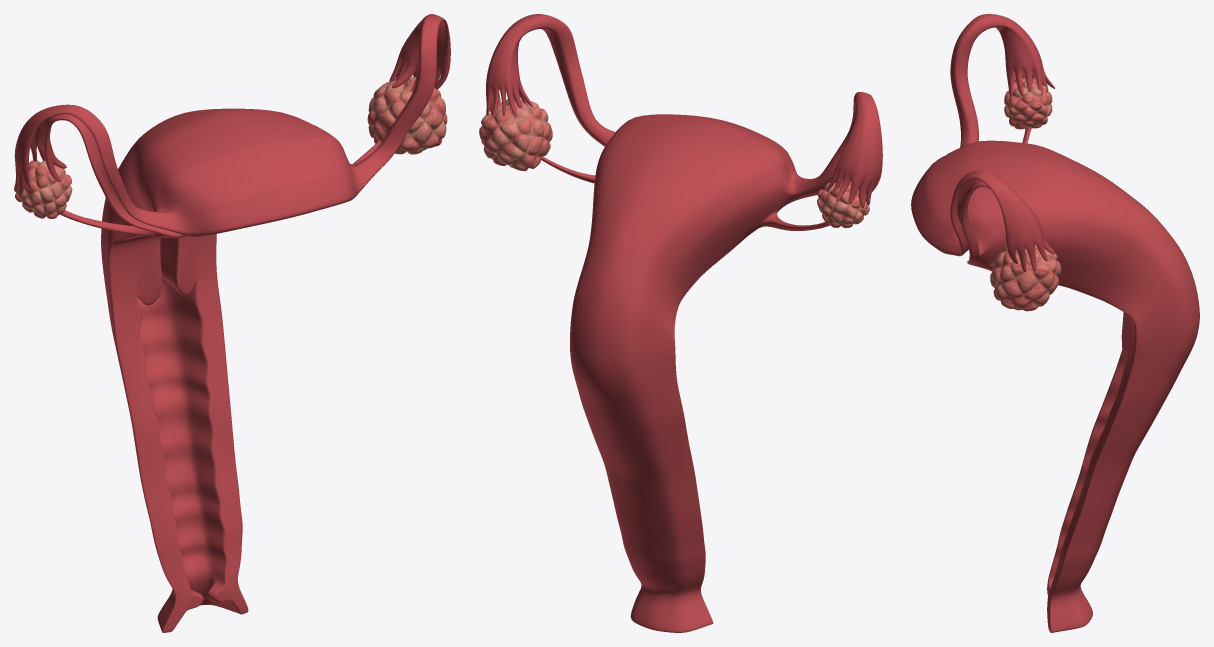
Rendered from pcod (1).fbx.
The picture shows the model from 3 angles, left to right: view 1: azimuth 30°, elevation 25°; view 2: azimuth 150°, elevation 25°; view 3: azimuth 270°, elevation 25°; orthographic projection. The views are drawn at different scales.
Parts seen in each view (by area): view 1: Uterus-XSection.002, Uterus-XSection.001, Uterus-XSection; view 2: Uterus-XSection.002, Uterus-XSection.001, Uterus-XSection; view 3: Uterus-XSection.002, Uterus-XSection.001, Uterus-XSection.
Boxes of the visible parts, x1,y1,x2,y2 form: Uterus-XSection.002: [14, 14, 450, 632]; Uterus-XSection.001: [367, 77, 447, 154]; Uterus-XSection: [14, 160, 72, 218]; Uterus-XSection.002: [486, 14, 882, 632]; Uterus-XSection.001: [479, 98, 552, 171]; Uterus-XSection: [817, 179, 870, 228]; Uterus-XSection.002: [911, 14, 1199, 632]; Uterus-XSection.001: [990, 244, 1061, 311]; Uterus-XSection: [1004, 78, 1052, 129].
Bounding box in the file's own units: 440 × 576 × 288.
